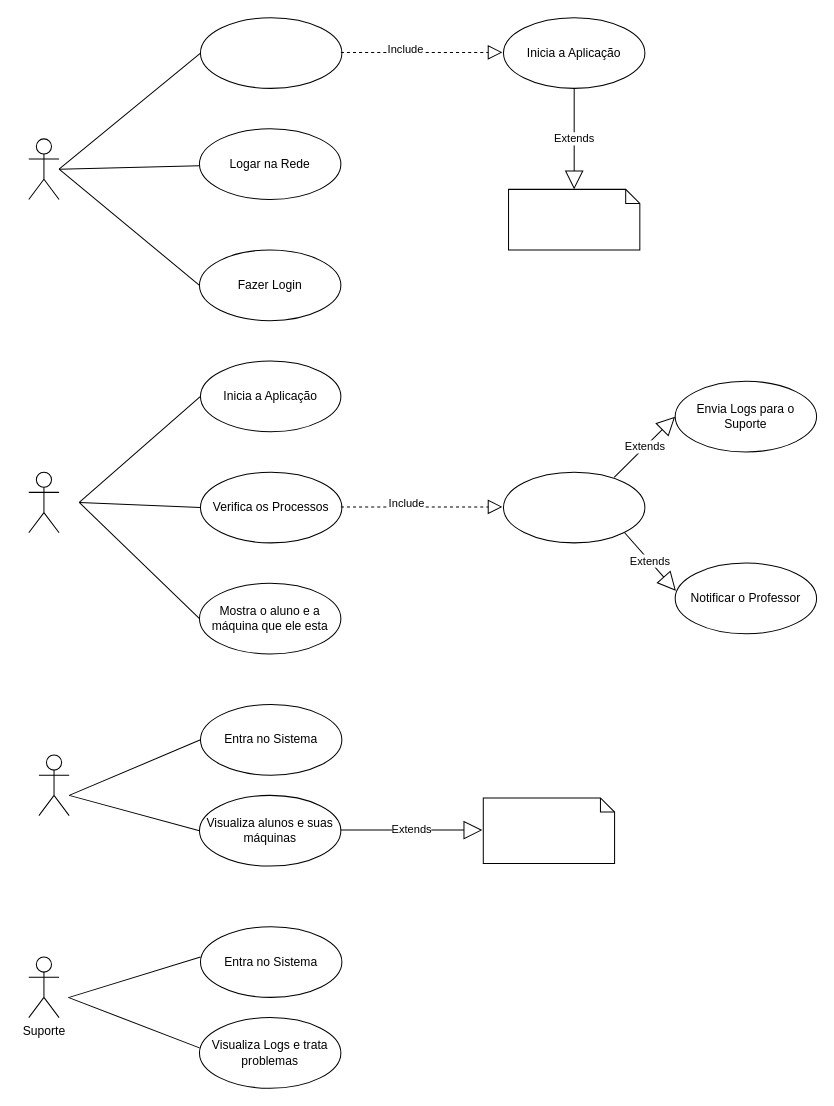
Some shapes in this 834 by 1106 pixel diagram are drawn without their labels. The shapes that lost their labels are listed below. From the top down, each one's centre as x and y in pixels, then its label:
(270,52): Ligar a Maquina
(43,168): Aluno
(574,219): MENSAGEM Alerta para encerrar o Processo
(43,502): Aplicação
(573,507): Detectar os processos sobrecarregados
(53,785): Professores
(548,830): MENSAGEM É notificado qual aluno e qual Processo
